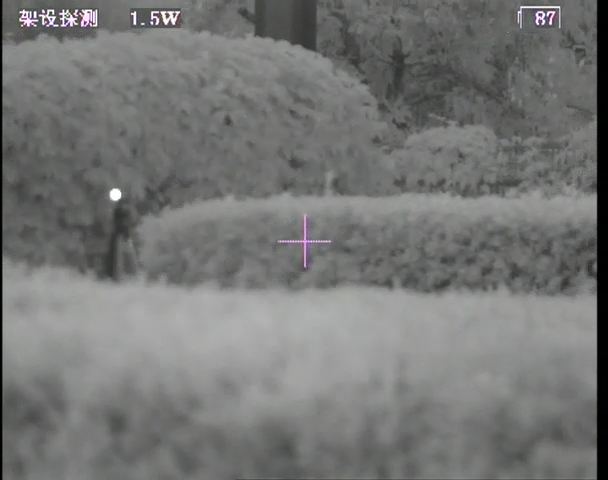my: (107, 186, 123, 201)
